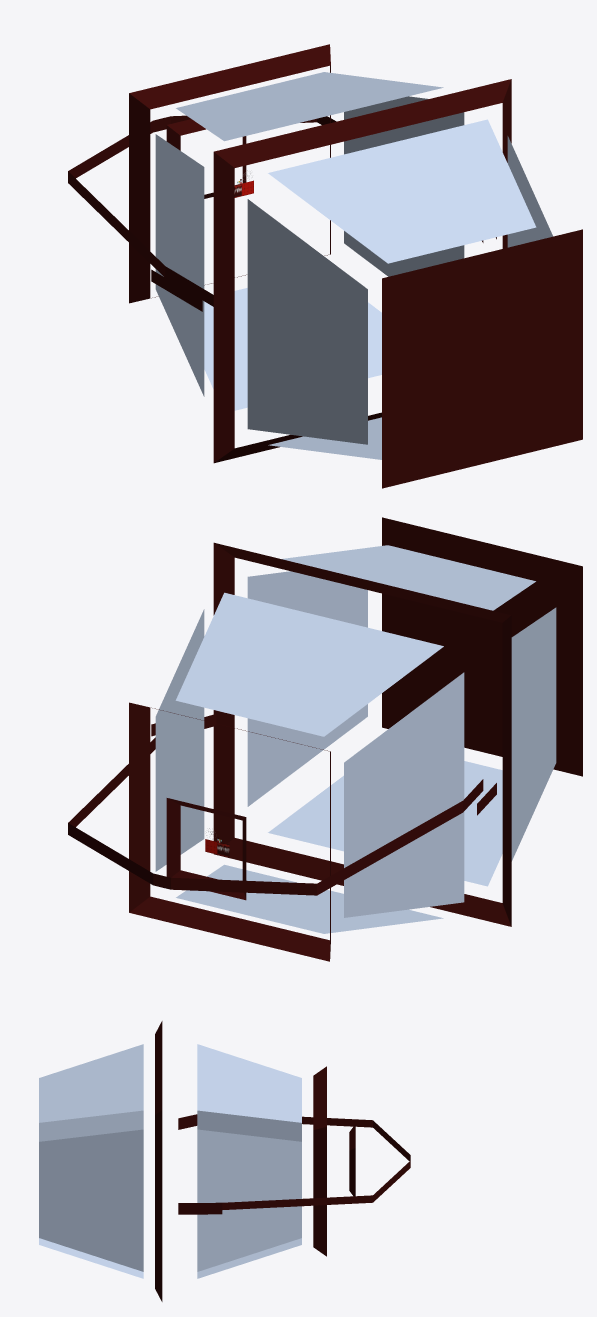
The model's file is Lantern.fbx.
3 renders of one model, top to bottom at view 1: azimuth 30°, elevation 25°; view 2: azimuth 150°, elevation 25°; view 3: azimuth 270°, elevation 25°, orthographic. The views are drawn at different scales.
Parts seen in each view (by area): view 1: Prop_Lantern; view 2: Prop_Lantern; view 3: Prop_Lantern.
Part boxes in pixels (<box>): Prop_Lantern: <box>68,44,582,488</box>; Prop_Lantern: <box>68,517,582,961</box>; Prop_Lantern: <box>39,1021,410,1301</box>.
Bounding box in the file's own units: 0.4591 × 0.42 × 1.12.
2 materials, 2 textured.
